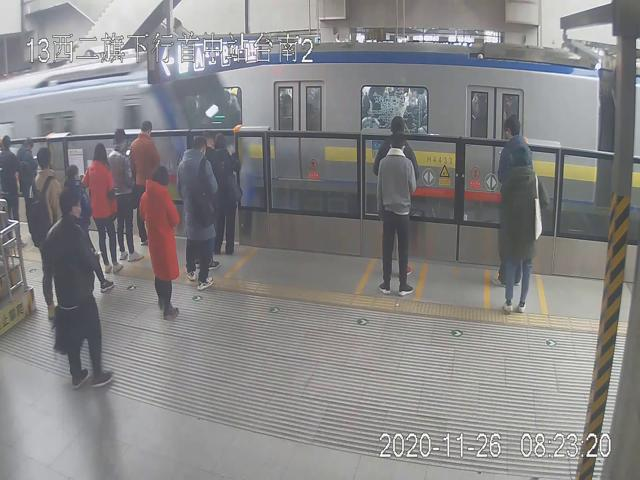person: (41, 186, 114, 390), (499, 148, 543, 315), (374, 132, 416, 295), (139, 166, 183, 320), (27, 147, 66, 319), (177, 136, 218, 290), (84, 141, 122, 273), (109, 126, 144, 262)
